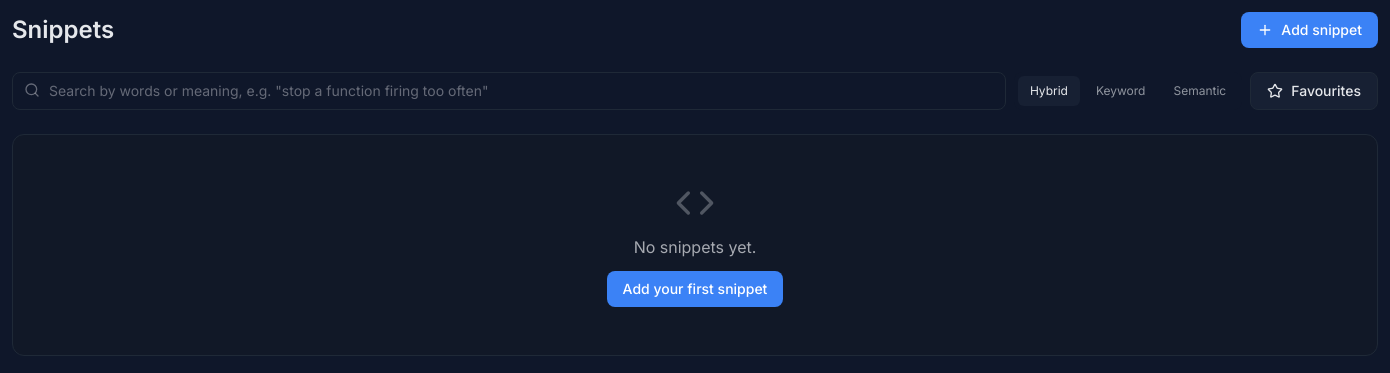
Test: SnippetsPage › switches the search mode
In the search field named "Search snippets": (509, 91) x1=12 y1=72 x2=1006 y2=110, type "debounce"
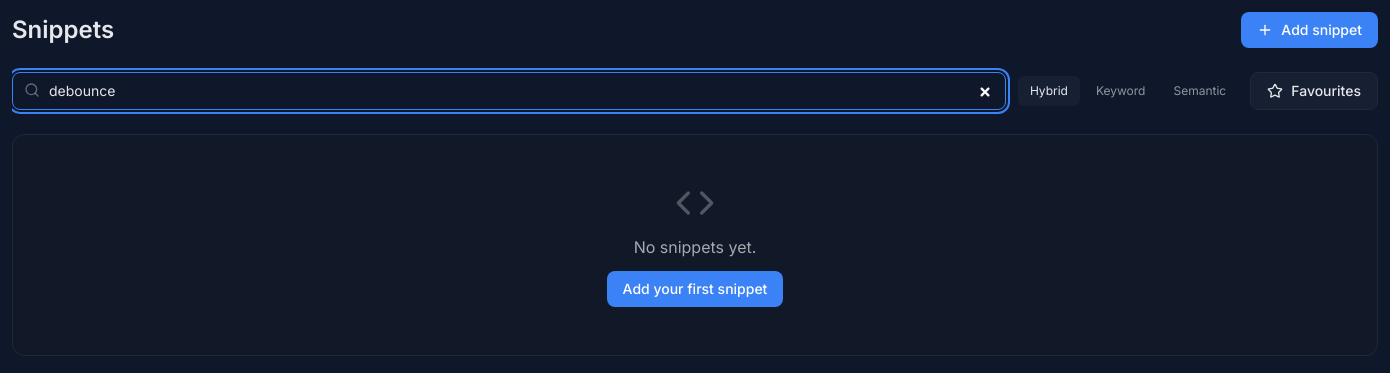
Click the button "Keyword": (1121, 91) x1=1084 y1=76 x2=1158 y2=106
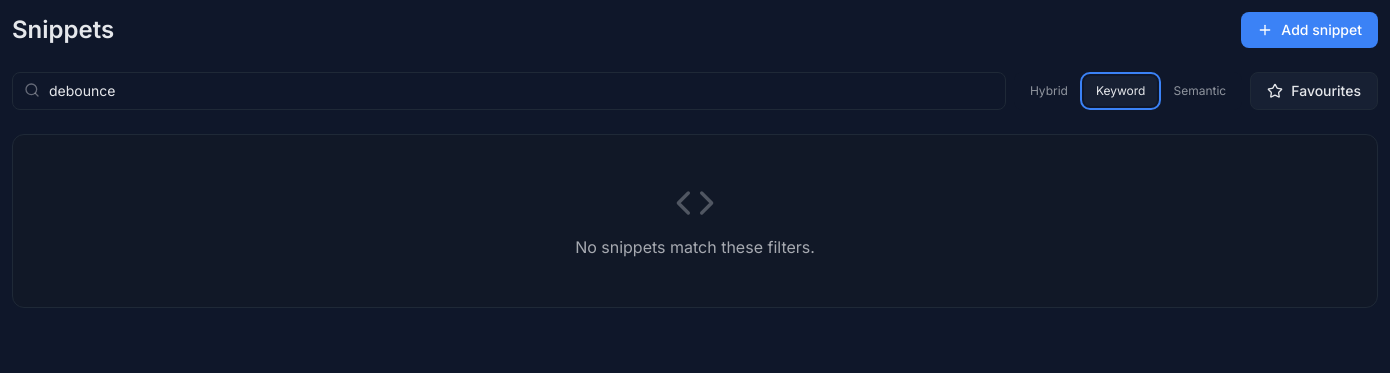
Check: the text "No snippets match these filters." is shown, box x1=575 y1=235 x2=815 y2=259
